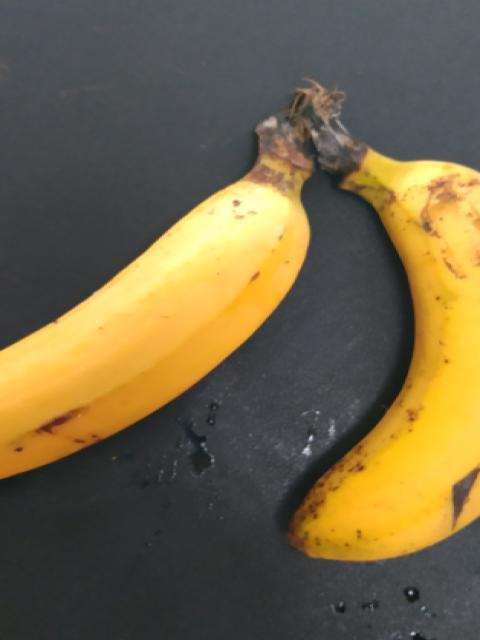freshripe: (0, 187, 320, 544)
ripe: (297, 123, 479, 593)
